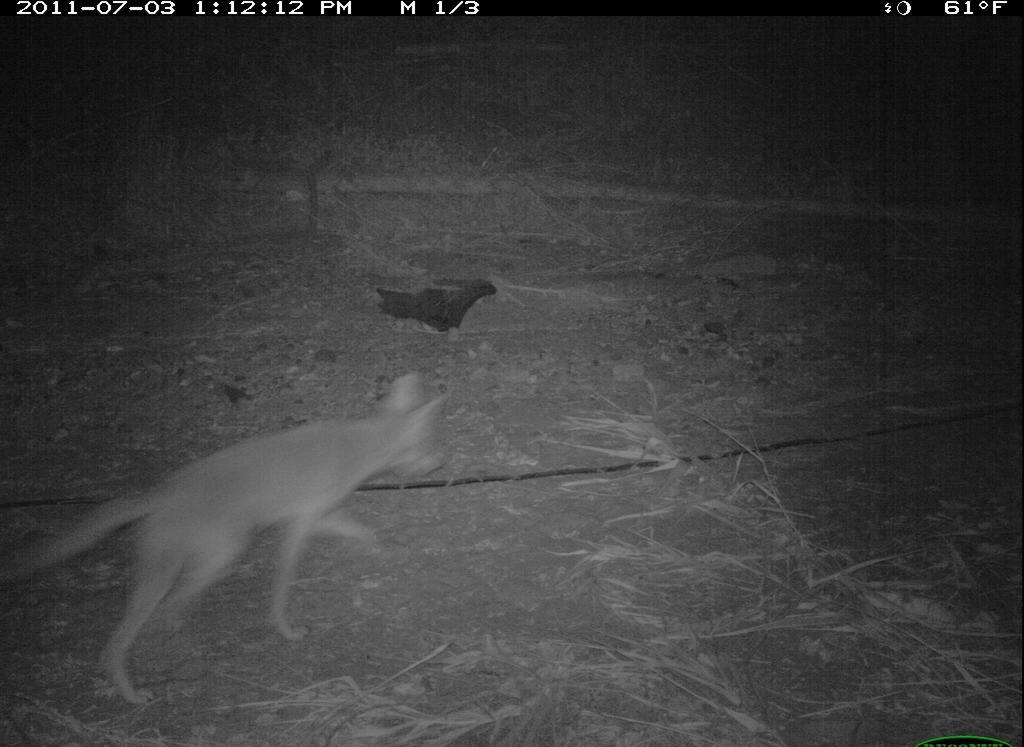coyote: (7, 362, 459, 717)
